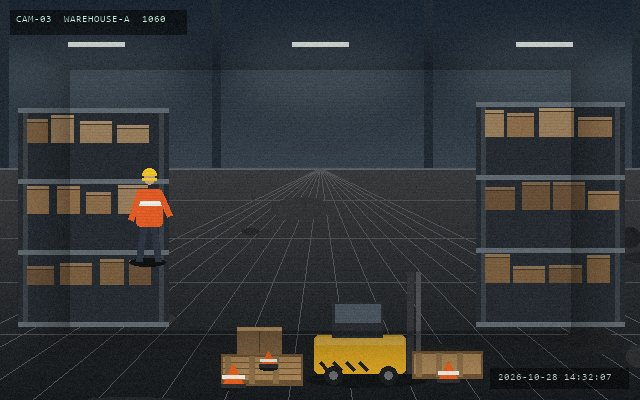cone: (220, 362, 246, 390), (436, 359, 460, 385), (258, 349, 278, 370)
forklift: (310, 270, 452, 387)
pallet: (219, 352, 304, 387), (410, 349, 484, 380)
person: (128, 166, 171, 265)
shelf: (476, 102, 624, 322), (18, 108, 168, 322)
